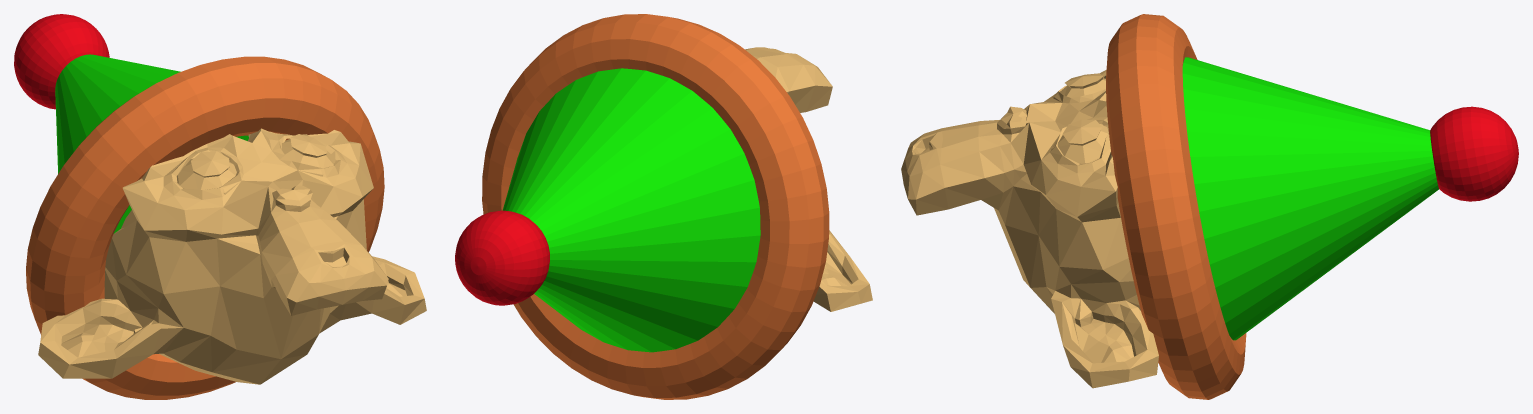
Rendered from Monkey3.dae.
3 renders of one model, left to right at view 1: azimuth 30°, elevation 25°; view 2: azimuth 150°, elevation 25°; view 3: azimuth 270°, elevation 25°, orthographic.
Parts seen in each view (by area): view 1: Suzanne, Torus, Cone, Sphere; view 2: Cone, Torus, Sphere, Suzanne; view 3: Cone, Suzanne, Torus, Sphere.
Part boxes in pixels (x1,y1,x2,y2): Suzanne: [38, 128, 426, 384]; Torus: [26, 56, 384, 399]; Cone: [55, 54, 248, 233]; Sphere: [14, 14, 109, 109]; Cone: [502, 68, 760, 352]; Torus: [482, 14, 829, 399]; Sphere: [455, 210, 549, 305]; Suzanne: [745, 47, 872, 311]; Cone: [1182, 57, 1438, 340]; Suzanne: [901, 69, 1158, 388]; Torus: [1106, 14, 1246, 399]; Sphere: [1430, 106, 1518, 201].
Bounding box in the file's own units: 404 × 581 × 361.
